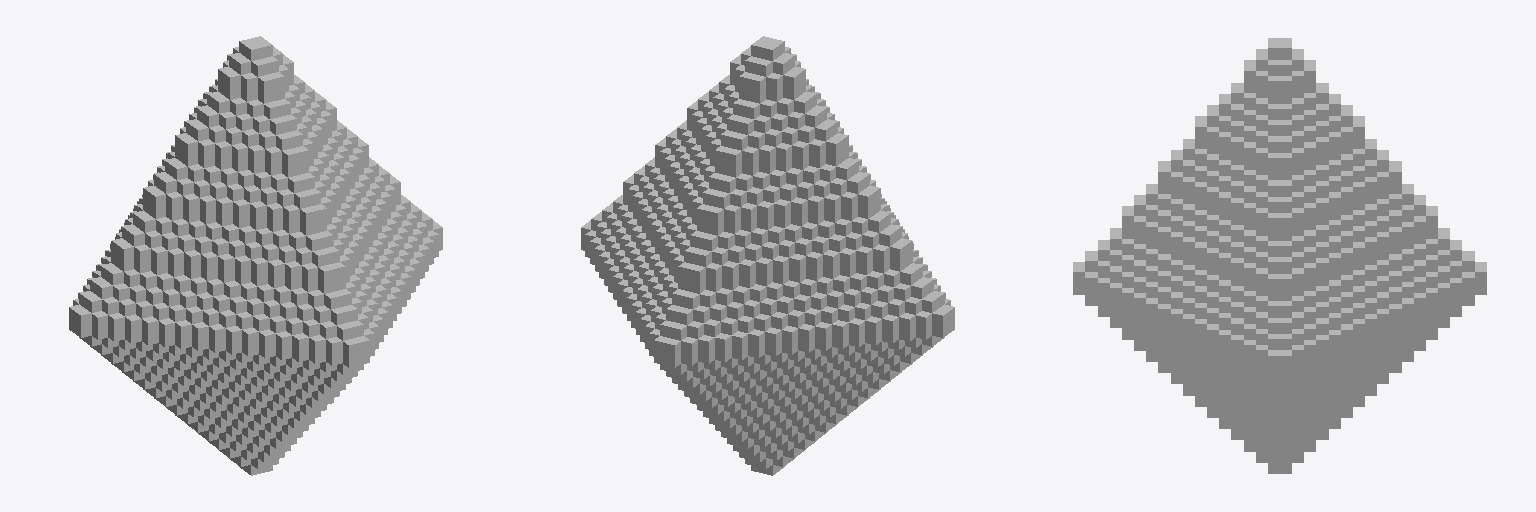
The model's file is ExportedObjects_Voxel Mesh [SMC Mesh].obj.
3 views of the same model, side by side, from view 1: azimuth 30°, elevation 25°; view 2: azimuth 150°, elevation 25°; view 3: azimuth 270°, elevation 25° (orthographic).
Visible parts, largest first — view 1: _Combined Mesh [ExportedObjects_Voxel Mesh]; view 2: _Combined Mesh [ExportedObjects_Voxel Mesh]; view 3: _Combined Mesh [ExportedObjects_Voxel Mesh].
Boxes of the visible parts, x1,y1,x2,y2 form: _Combined Mesh [ExportedObjects_Voxel Mesh]: [69, 36, 442, 475]; _Combined Mesh [ExportedObjects_Voxel Mesh]: [581, 36, 954, 475]; _Combined Mesh [ExportedObjects_Voxel Mesh]: [1073, 38, 1486, 473].
Size of the model in its own units: 10.26 by 11.53 by 10.15.